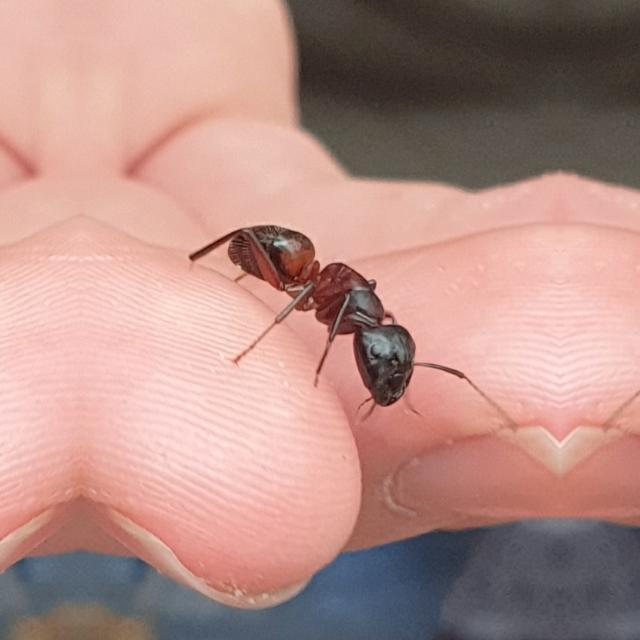Camponotus: (201, 190, 449, 426)
